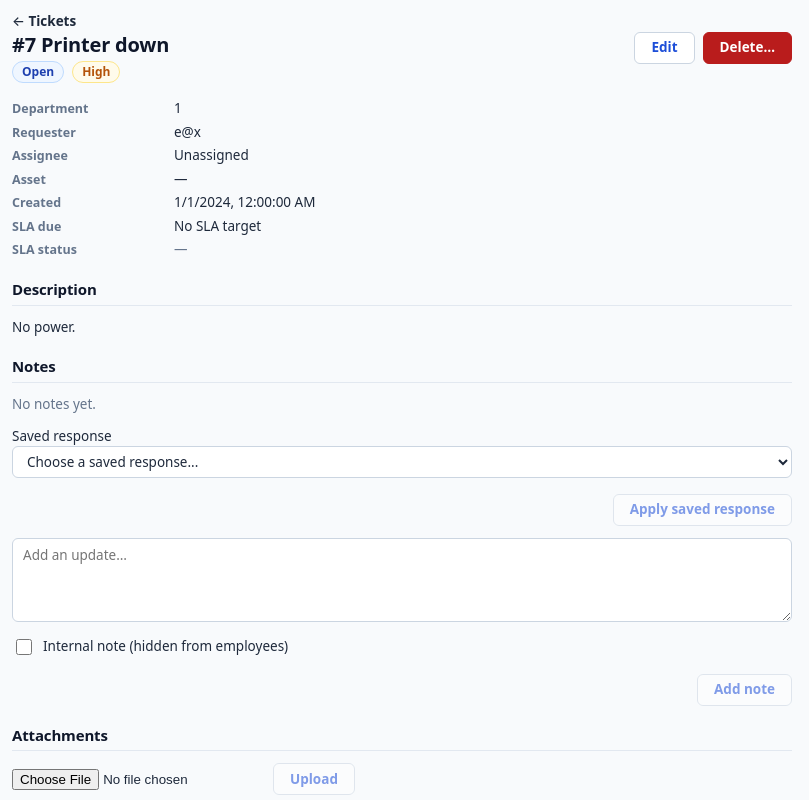
Test: TicketDetail canned responses › applies a saved response and refreshes the notes
The width and height of the screenshot is (809, 800).
Check: the heading "#7 Printer down" is shown, box [12, 32, 169, 57]
Select "Printer troubleshooting" in the dropdown labelled "Saved response" at (402, 462), box [12, 446, 792, 478]
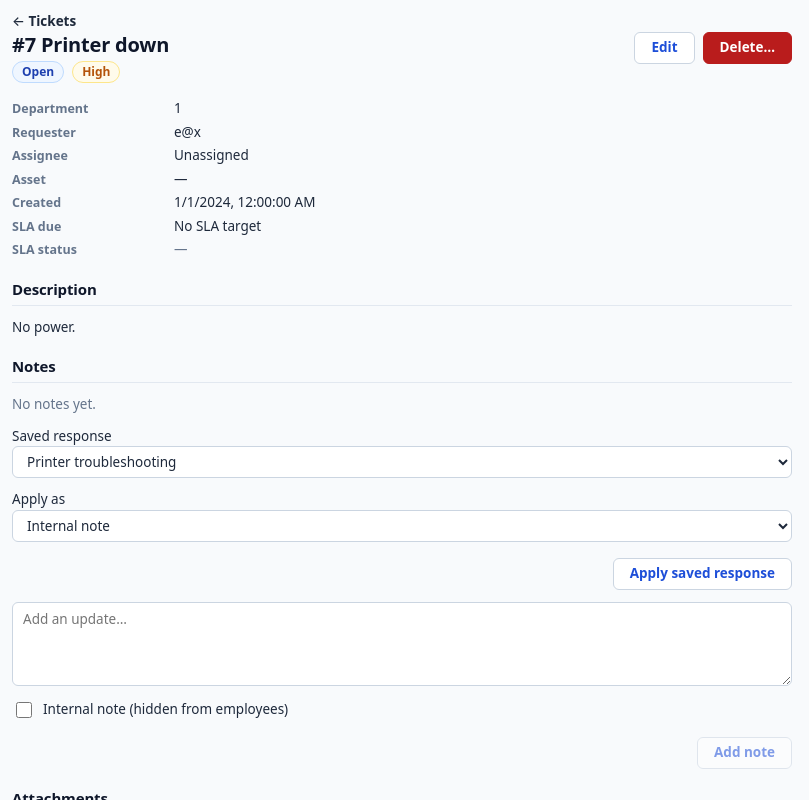
Click the button "Apply saved response" at (702, 574), box [613, 558, 792, 590]
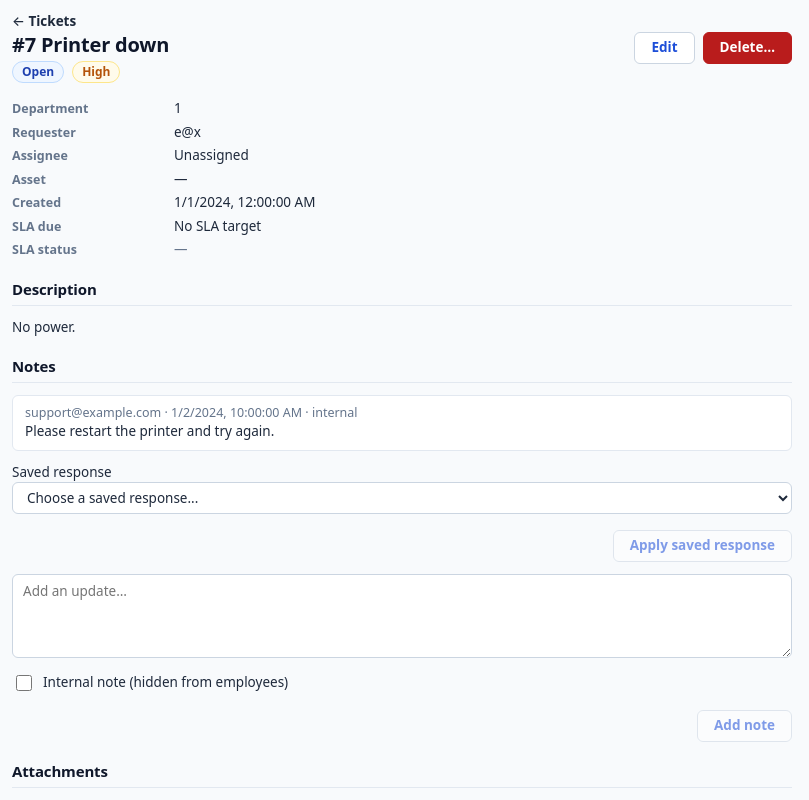
Check: the text "Please restart the printer and try again." is shown, box [25, 422, 274, 440]
